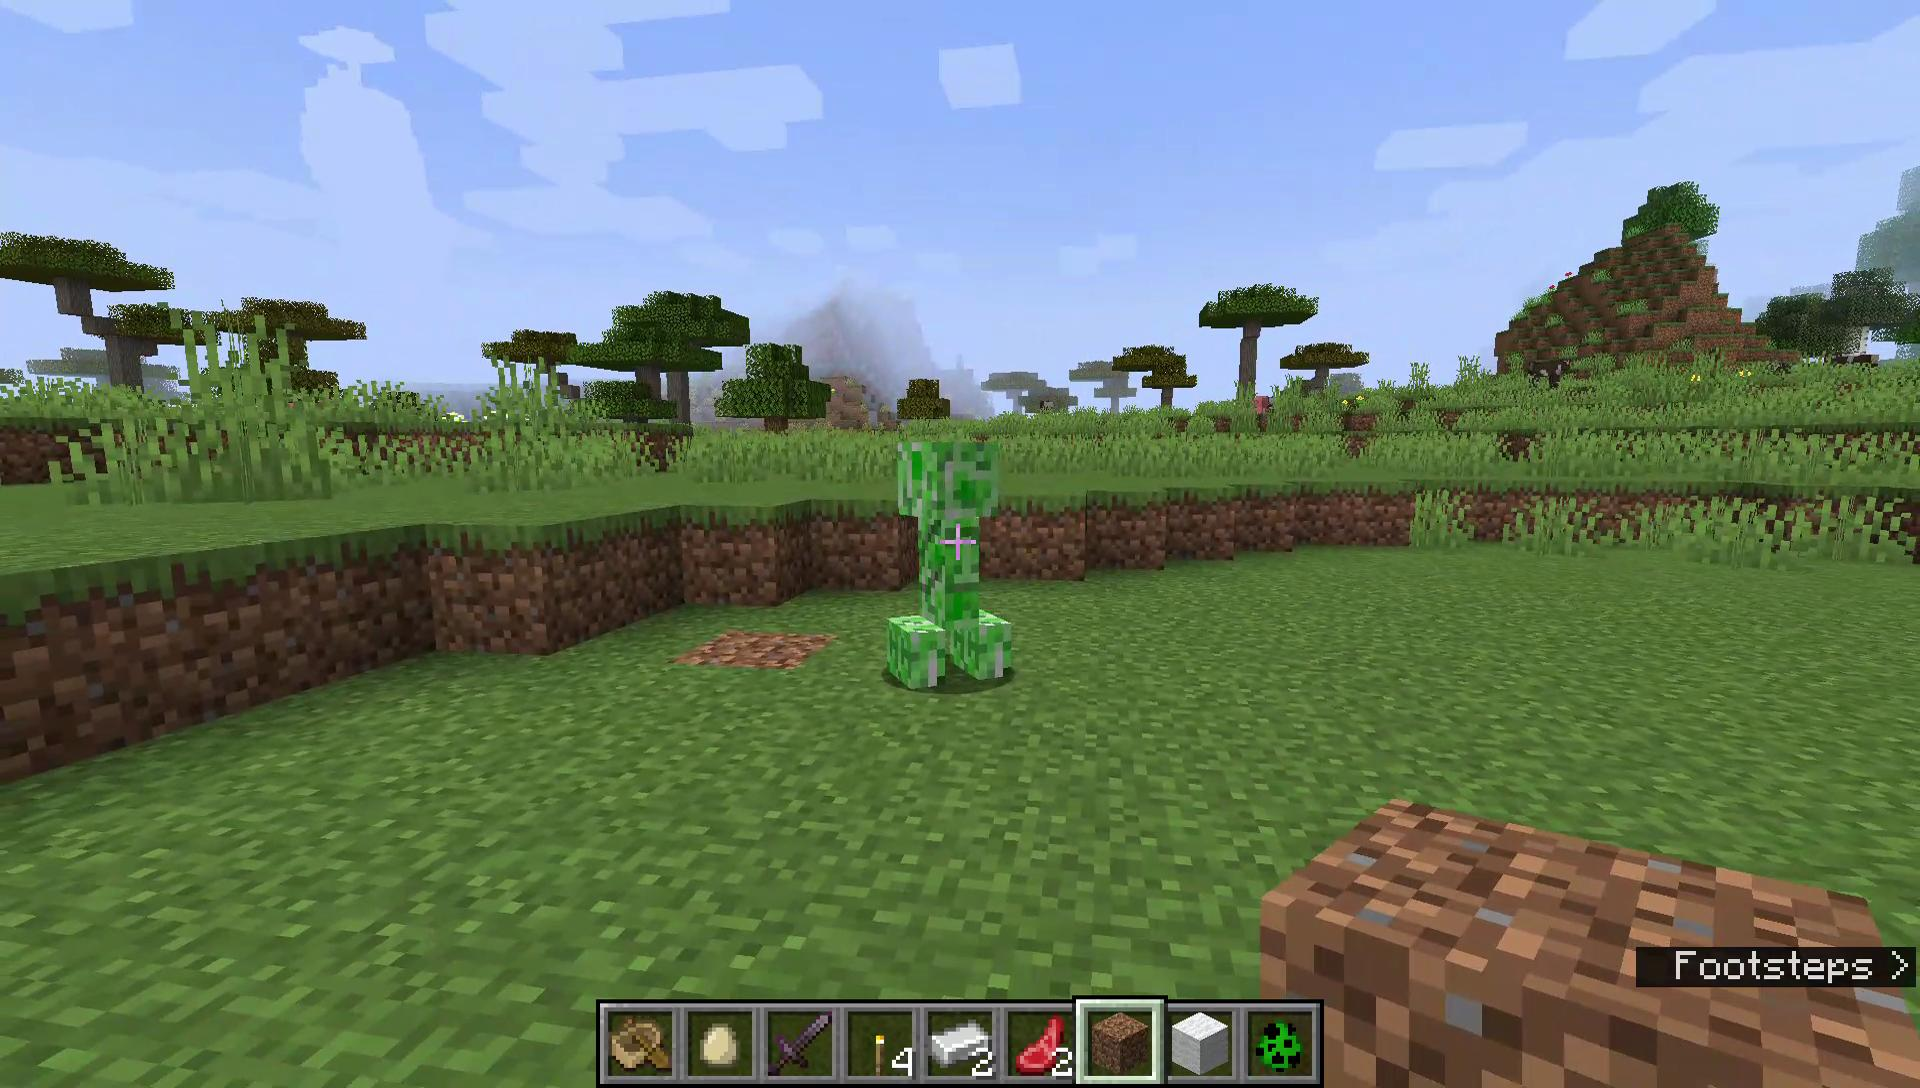cow: (1822, 348, 1884, 380), (1526, 356, 1575, 392)
creeper: (884, 433, 1015, 694)
pig: (1250, 394, 1269, 415)
